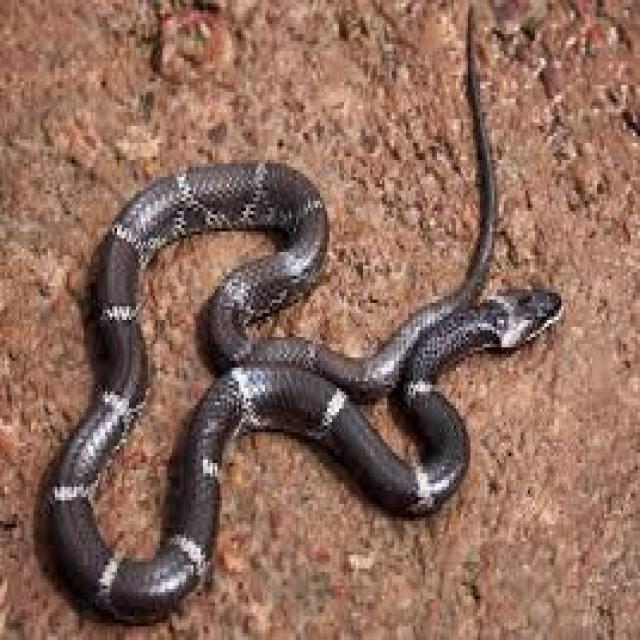Snake: (41, 3, 564, 623)
